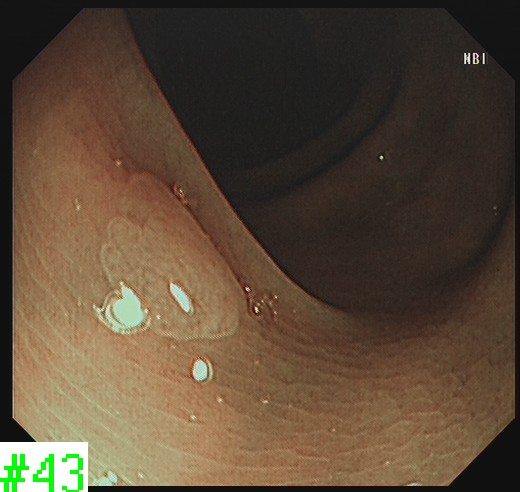others: (96, 167, 243, 342)
